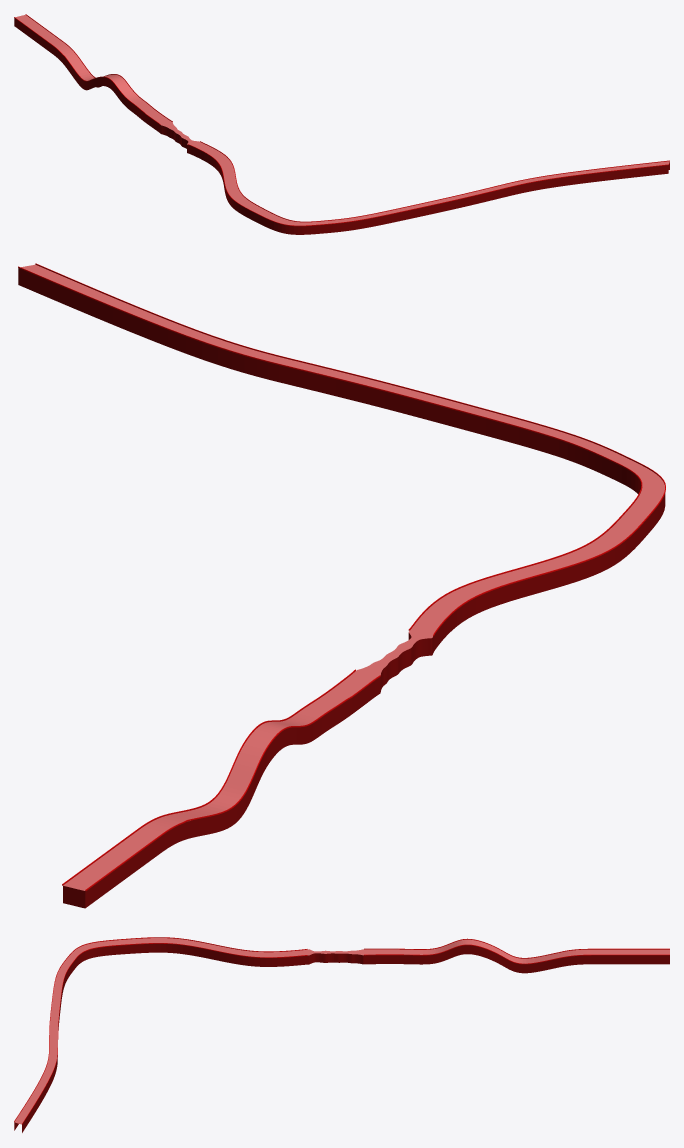
Rendered from road_1.fbx.
The picture shows the model from 3 angles, top to bottom: view 1: azimuth 30°, elevation 25°; view 2: azimuth 150°, elevation 25°; view 3: azimuth 270°, elevation 25°; orthographic projection. The views are drawn at different scales.
Parts seen in each view (by area): view 1: Plane.003, Plane.002; view 2: Plane.003, Plane.002; view 3: Plane.003, Plane.002.
Boxes of the visible parts, x1,y1,x2,y2 form: Plane.003: (14, 15, 669, 234); Plane.002: (14, 14, 669, 226); Plane.003: (18, 264, 665, 908); Plane.002: (18, 263, 665, 891); Plane.003: (14, 938, 669, 1132); Plane.002: (14, 937, 669, 1124).
Size of the model in its own units: 22583 by 1658 by 33481.
